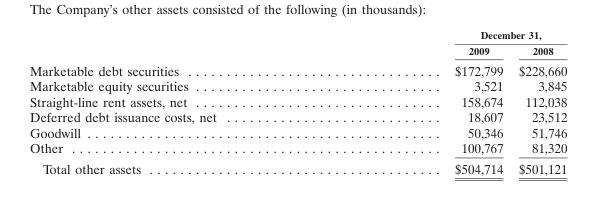table: (28, 28, 566, 176)
table column: (28, 28, 335, 176), (335, 28, 510, 176), (510, 28, 566, 176)
table column header: (28, 28, 566, 59)
table row: (28, 157, 566, 176), (28, 59, 566, 77), (28, 139, 566, 157), (28, 42, 566, 59), (28, 77, 566, 93), (28, 108, 566, 124), (28, 93, 566, 108), (28, 124, 566, 139), (28, 28, 566, 42)
table spanning cell: (335, 28, 566, 42)
